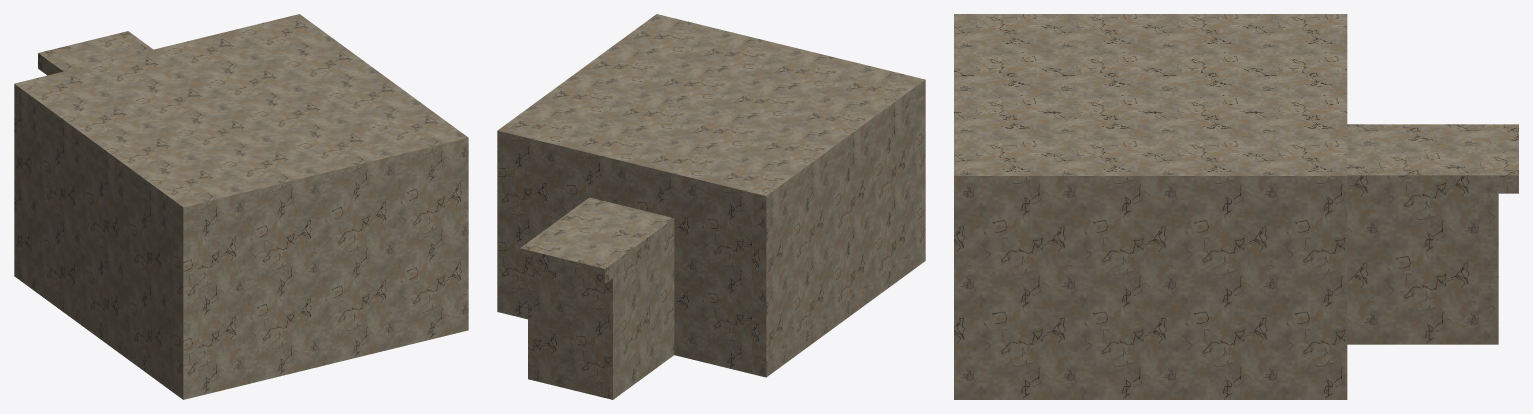
Rendered from spawn_room.glb.
The picture shows the model from 3 angles, left to right: view 1: azimuth 30°, elevation 25°; view 2: azimuth 150°, elevation 25°; view 3: azimuth 270°, elevation 25°; orthographic projection. The views are drawn at different scales.
Parts seen in each view (by area): view 1: Crypt_Ceiling-col, Crypt_Wall_S-col, Crypt_Wall_W-col, Crypt_Floor-col, Crypt_Wall_E-col, Crypt_CorridorCeiling-col; view 2: Crypt_Ceiling-col, Crypt_Wall_W-col, Crypt_Wall_N_W-col, Crypt_CorridorEnd-col, Crypt_CorridorCeiling-col, Crypt_CorridorWall_W-col, Crypt_Wall_N_E-col, Crypt_Floor-col, Crypt_Wall_E-col, Crypt_Wall_N_Lintel-col, Crypt_CorridorFloor-col, Crypt_CorridorWall_E-col; view 3: Crypt_Wall_E-col, Crypt_Ceiling-col, Crypt_CorridorWall_E-col, Crypt_CorridorCeiling-col, Crypt_Floor-col, Crypt_CorridorEnd-col, Crypt_CorridorFloor-col.
Part boxes in pixels (bbox=[...]): Crypt_Ceiling-col: bbox=[14, 14, 468, 222]; Crypt_Wall_S-col: bbox=[198, 157, 453, 395]; Crypt_Wall_W-col: bbox=[14, 99, 198, 398]; Crypt_Floor-col: bbox=[15, 264, 468, 399]; Crypt_Wall_E-col: bbox=[453, 153, 468, 333]; Crypt_CorridorCeiling-col: bbox=[38, 31, 153, 75]; Crypt_Ceiling-col: bbox=[497, 14, 925, 210]; Crypt_Wall_W-col: bbox=[752, 94, 925, 377]; Crypt_Wall_N_W-col: bbox=[660, 185, 751, 373]; Crypt_CorridorEnd-col: bbox=[528, 236, 621, 399]; Crypt_CorridorCeiling-col: bbox=[520, 197, 674, 283]; Crypt_CorridorWall_W-col: bbox=[599, 233, 674, 398]; Crypt_Wall_N_E-col: bbox=[511, 149, 603, 319]; Crypt_Floor-col: bbox=[497, 243, 925, 377]; Crypt_Wall_E-col: bbox=[497, 145, 511, 315]; Crypt_Wall_N_Lintel-col: bbox=[603, 171, 659, 214]; Crypt_CorridorFloor-col: bbox=[528, 341, 674, 399]; Crypt_CorridorWall_E-col: bbox=[528, 265, 542, 372]; Crypt_Wall_E-col: bbox=[954, 194, 1347, 399]; Crypt_Ceiling-col: bbox=[954, 14, 1347, 194]; Crypt_CorridorWall_E-col: bbox=[1347, 193, 1498, 344]; Crypt_CorridorCeiling-col: bbox=[1347, 124, 1518, 193]; Crypt_Floor-col: bbox=[954, 377, 1347, 399]; Crypt_CorridorEnd-col: bbox=[1478, 124, 1498, 344]; Crypt_CorridorFloor-col: bbox=[1347, 321, 1498, 344].
Size of the model in its own units: 7.6 by 4.9 by 11.2.
Materials: 13 (7 with a texture image).
